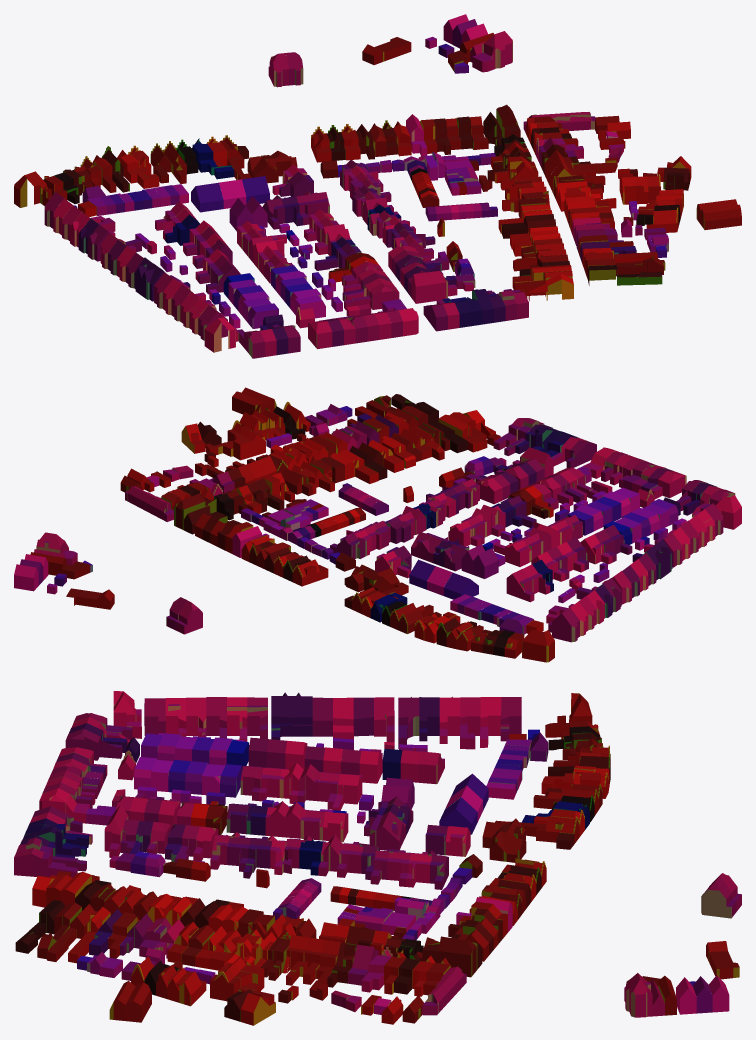
The model's file is buildings_9_12.glb.
3 views of the same model, one above another, from view 1: azimuth 30°, elevation 25°; view 2: azimuth 150°, elevation 25°; view 3: azimuth 270°, elevation 25° (orthographic). The views are drawn at different scales.
Visible parts, largest first — view 1: buildings_9_12; view 2: buildings_9_12; view 3: buildings_9_12.
Boxes of the visible parts, left/top/right/bottom form: buildings_9_12: left=14, top=14, right=741, bottom=358; buildings_9_12: left=14, top=387, right=741, bottom=662; buildings_9_12: left=14, top=691, right=741, bottom=1025.
Bounding box in the file's own units: 211 × 11.32 × 213.
